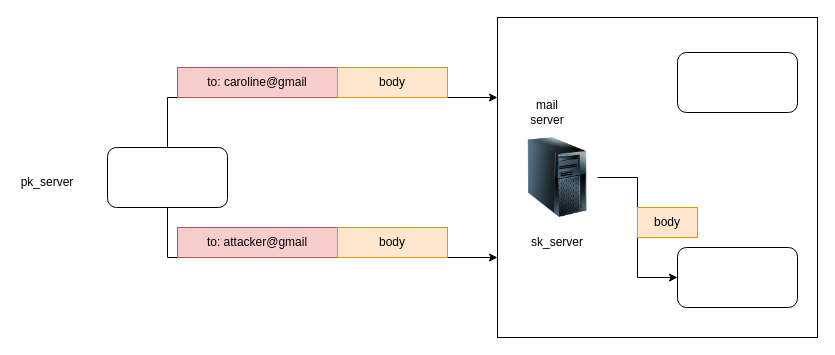
Image size: 835x355. Some labels were removed from this diagram. Each missing label, with the centre of its shape:
"attacker" goes at [737,277].
"Caroline" goes at [737,82].
"Client" goes at [167,177].
